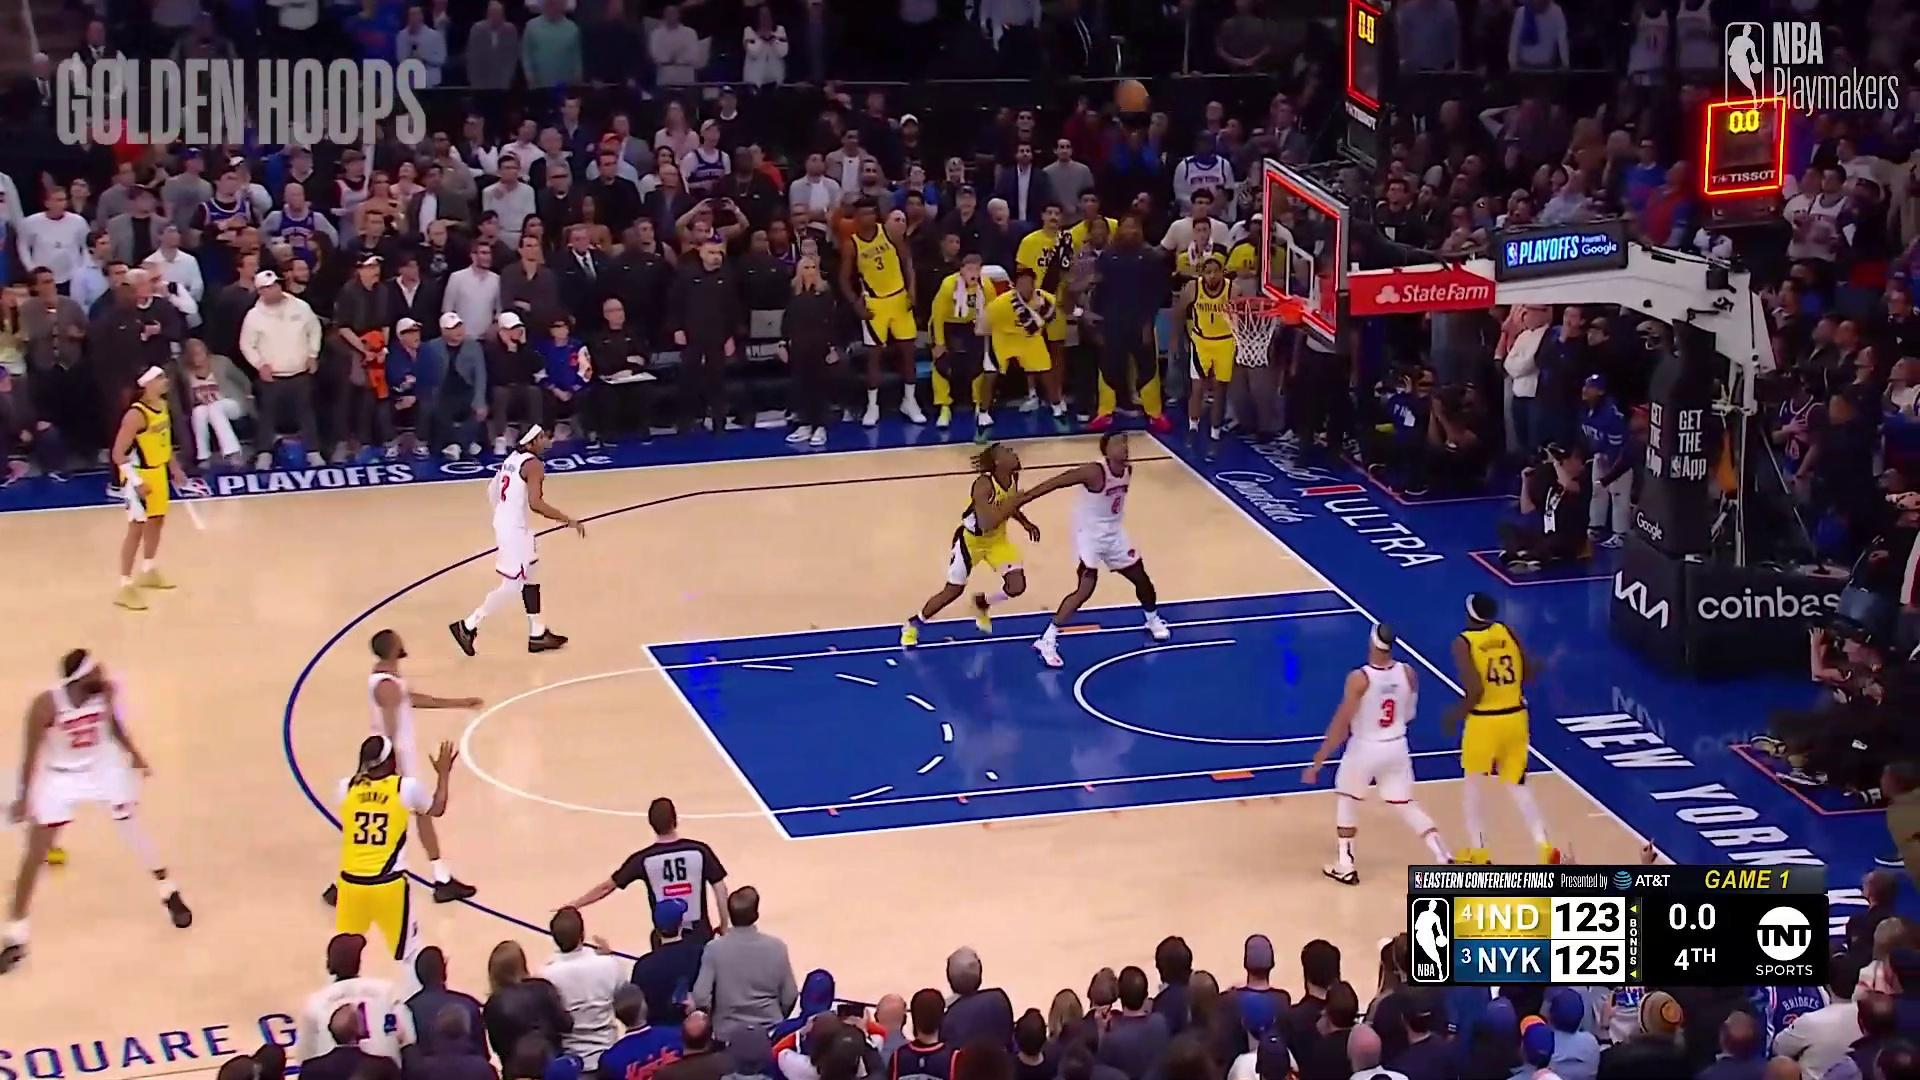ball: (1114, 78, 1146, 117)
hoop: (1224, 285, 1282, 365)
